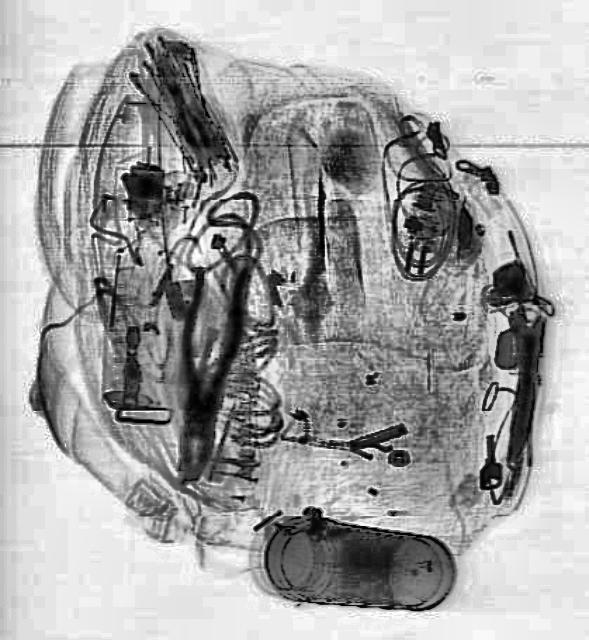Pliers: (158, 261, 247, 483)
